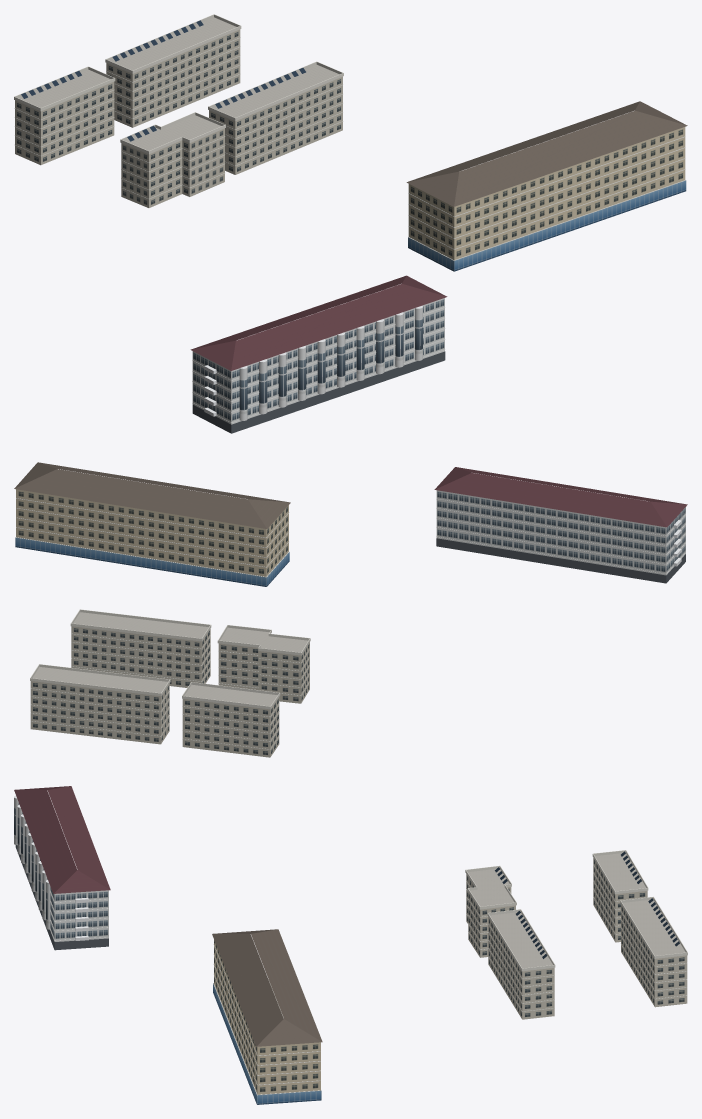
The model's file is dorm_dongyuan_h1.glb.
3 views of the same model, one above another, from view 1: azimuth 30°, elevation 25°; view 2: azimuth 150°, elevation 25°; view 3: azimuth 270°, elevation 25° (orthographic). The views are drawn at different scales.
Parts seen in each view (by area): view 1: 862952686, 862952674, 1425305075, 1425305074, 1425504863, 1425305071; view 2: 862952686, 862952674, 1425305075, 1425305074, 1425305071, 1425504863; view 3: 862952686, 862952674, 1425305074, 1425305075, 1425305071, 1425504863.
Part boxes in pixels (<box>): 862952686: <box>406,101,687,271</box>; 862952674: <box>190,275,447,433</box>; 1425305075: <box>105,14,241,127</box>; 1425305074: <box>208,61,343,174</box>; 1425504863: <box>120,112,225,207</box>; 1425305071: <box>14,66,115,165</box>; 862952686: <box>14,462,290,586</box>; 862952674: <box>434,467,687,583</box>; 1425305075: <box>30,664,170,744</box>; 1425305074: <box>70,609,211,687</box>; 1425305071: <box>182,682,280,757</box>; 1425504863: <box>217,625,310,703</box>; 862952686: <box>212,929,322,1104</box>; 862952674: <box>14,786,110,950</box>; 1425305074: <box>487,909,555,1019</box>; 1425305075: <box>620,896,687,1007</box>; 1425305071: <box>592,850,648,942</box>; 1425504863: <box>465,865,516,957</box>.
Bounding box in the file's own units: 207 × 25.89 × 225.
Materials: 8 (5 with a texture image).
